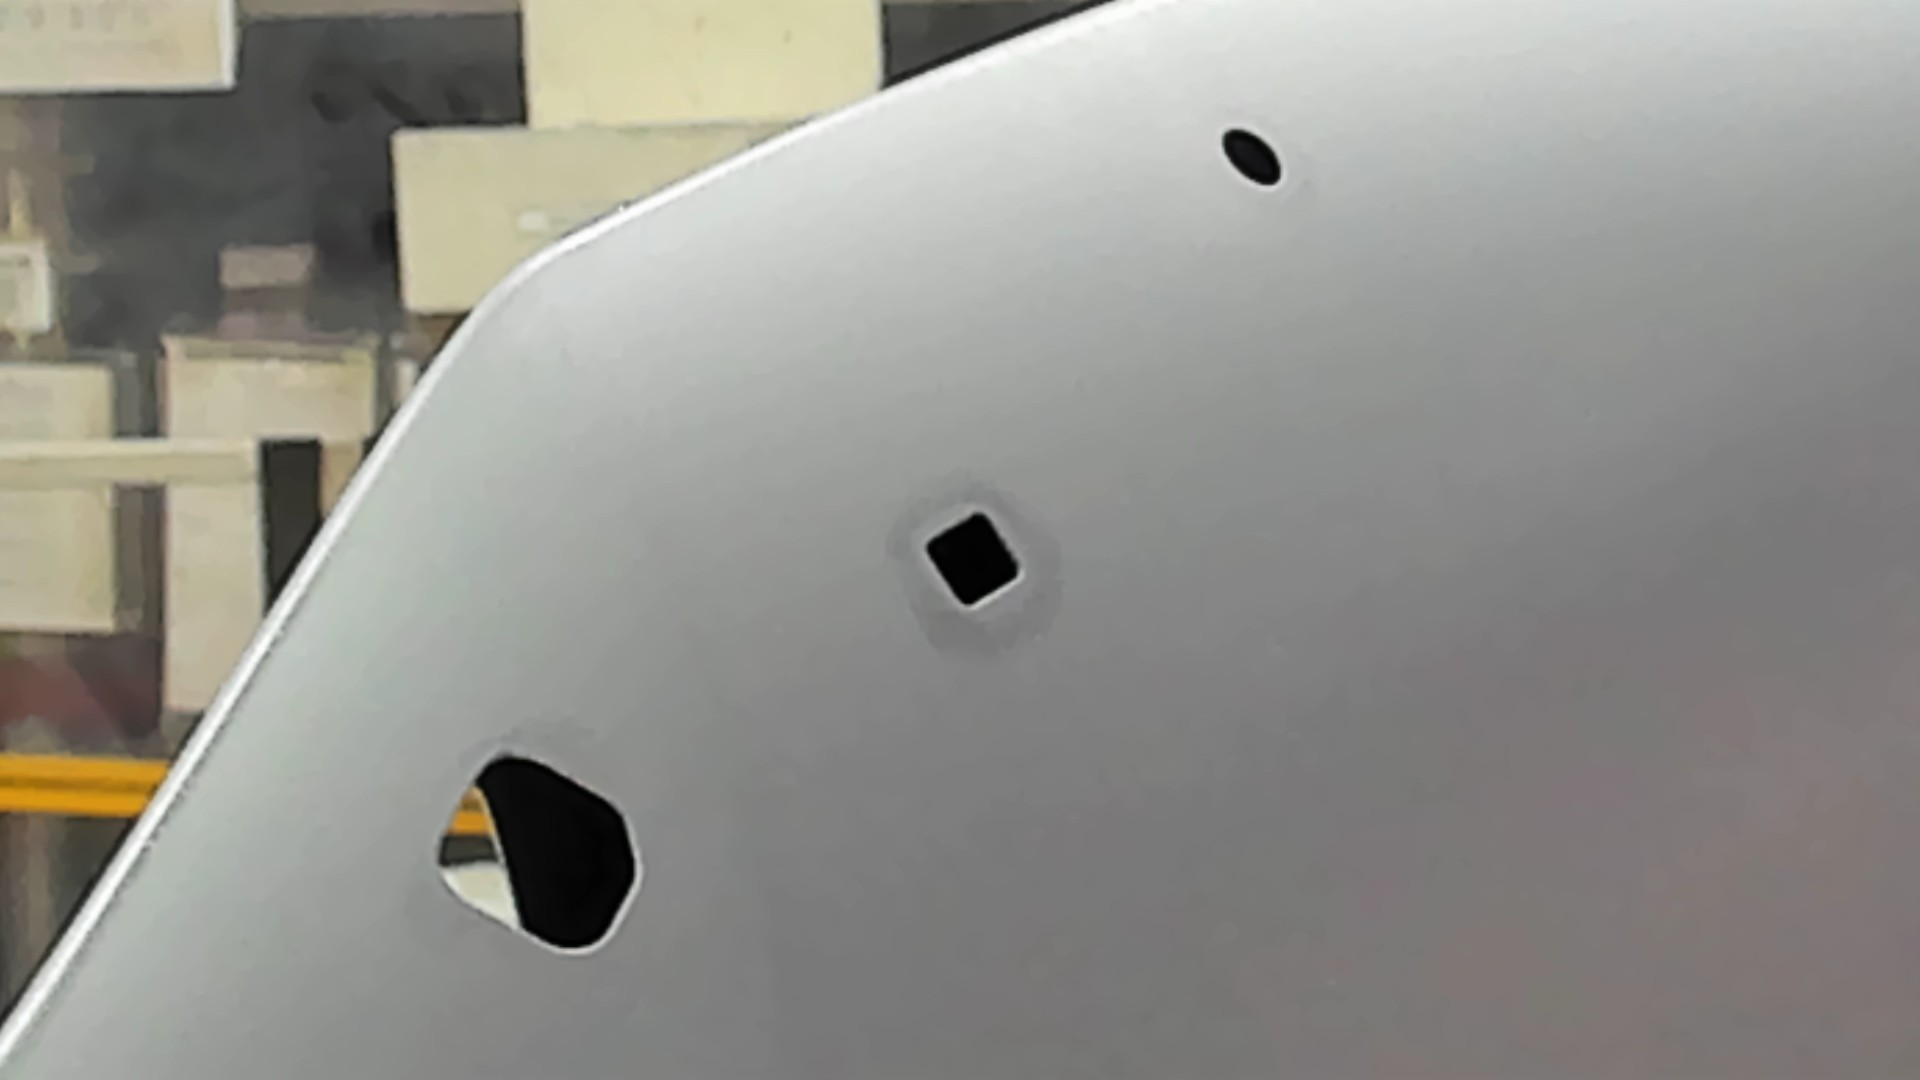chico: (1218, 124, 1287, 189)
grande: (434, 749, 647, 961)
mediano: (918, 508, 1030, 615)
